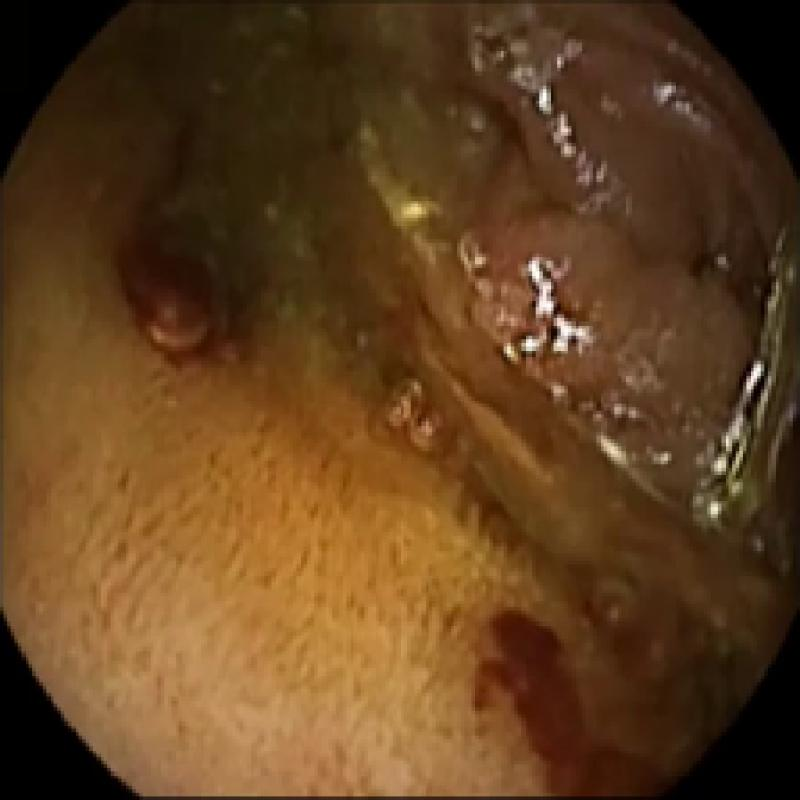bleeding: (472, 612, 664, 789), (114, 125, 236, 350)
